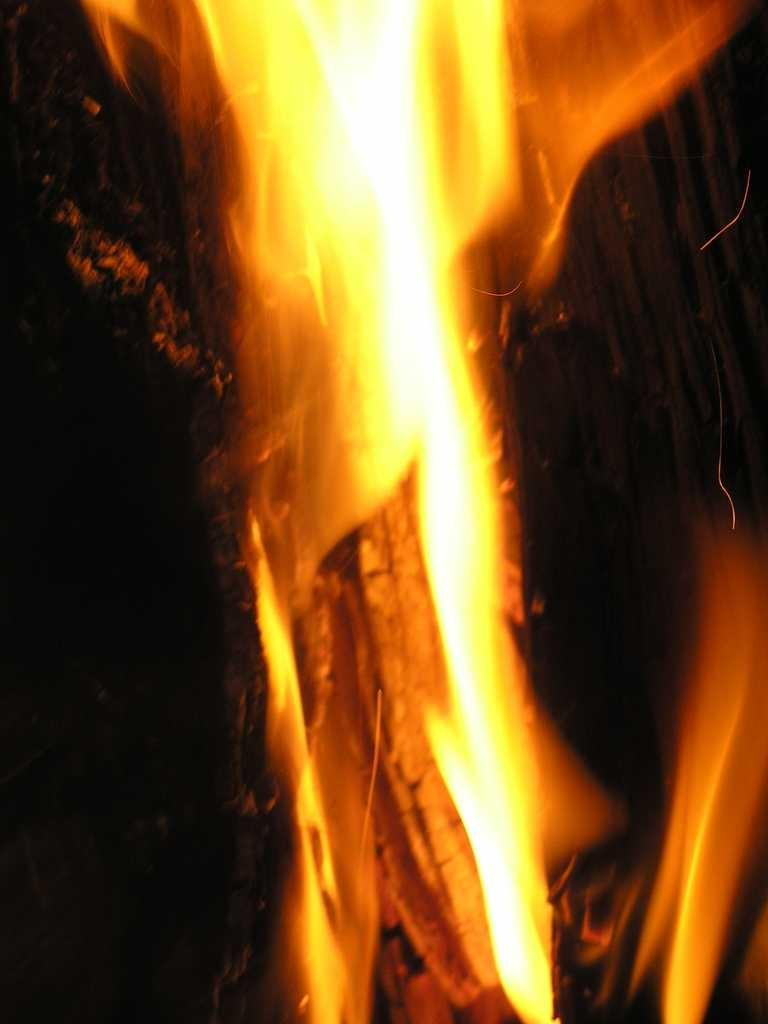fire: (308, 2, 478, 418), (425, 490, 528, 845)
